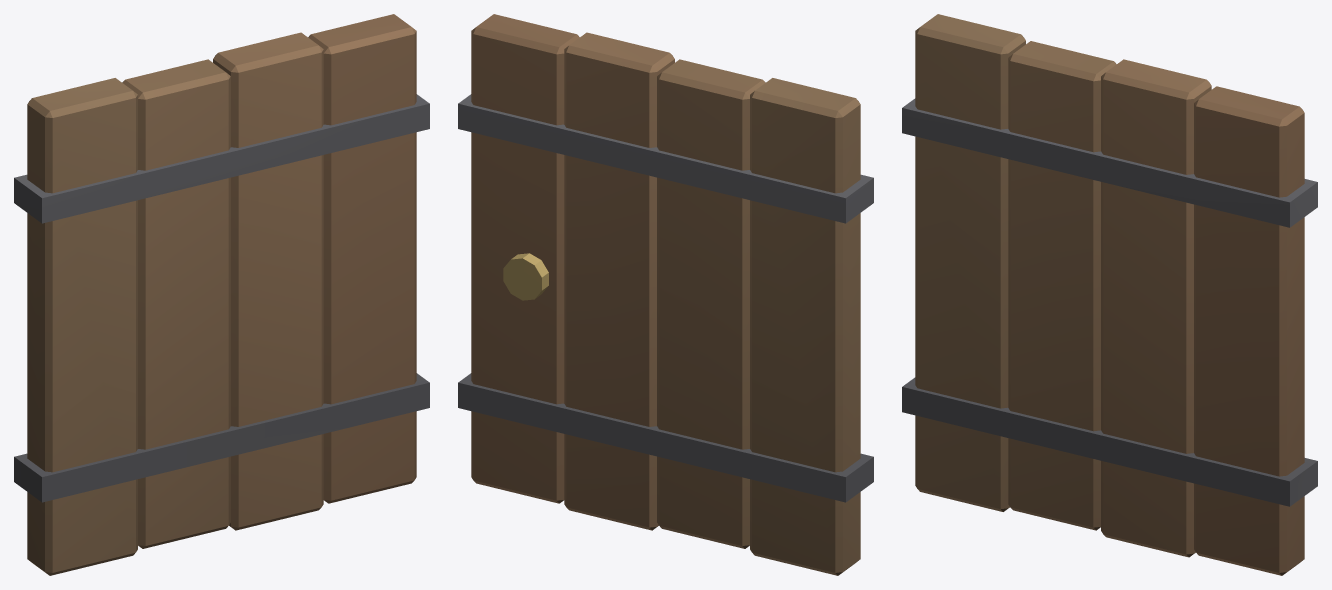
File: door.glb
3 views of the same model, side by side, from view 1: azimuth 30°, elevation 25°; view 2: azimuth 150°, elevation 25°; view 3: azimuth 330°, elevation 25° (orthographic).
Parts seen in each view (by area): view 1: door; view 2: door; view 3: door.
Part boxes in pixels (x1,y1,x2,y2): door: (14, 14, 429, 575); door: (458, 14, 873, 575); door: (902, 14, 1317, 575).
Size of the model in its own units: 0.96 by 1.1 by 0.155.
